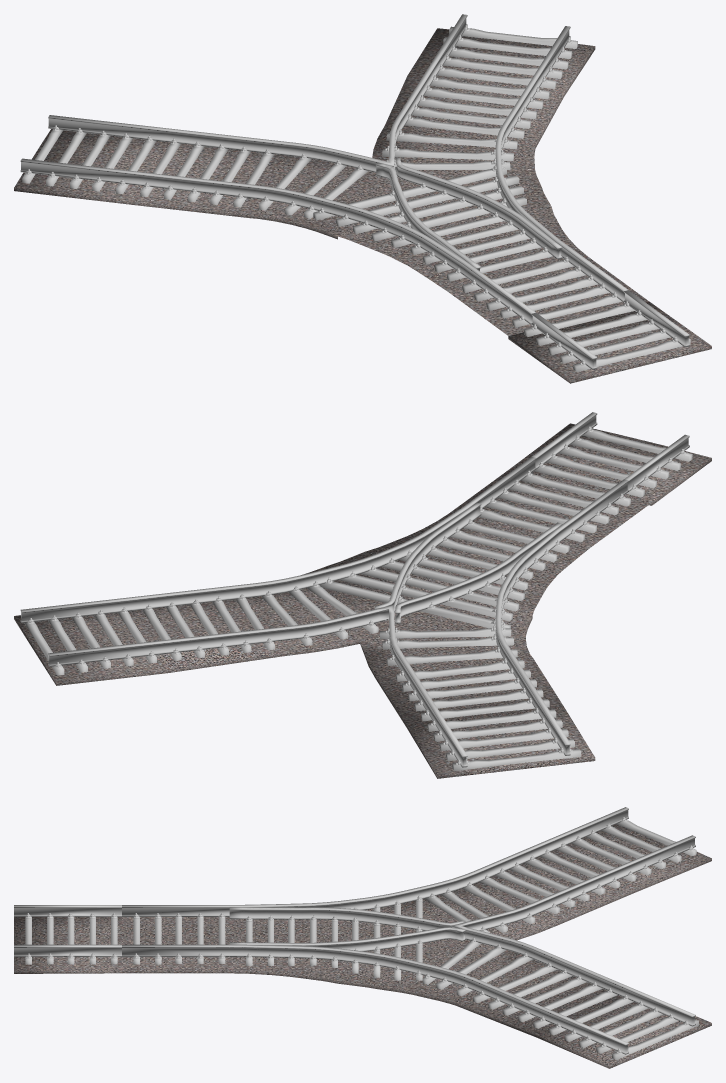
The model's file is track_fork1_concrete.fbx.
3 renders of one model, top to bottom at view 1: azimuth 30°, elevation 25°; view 2: azimuth 150°, elevation 25°; view 3: azimuth 270°, elevation 25°, orthographic. The views are drawn at different scales.
Visible parts, largest first — view 1: ground, concrete, rails; view 2: ground, concrete, rails; view 3: ground, rails, concrete.
Part boxes in pixels (x1,y1,x2,y2): ground: [14, 28, 711, 383]; concrete: [22, 26, 690, 372]; rails: [20, 14, 689, 369]; ground: [14, 423, 711, 778]; concrete: [24, 429, 692, 771]; rails: [20, 412, 689, 767]; ground: [14, 824, 711, 1068]; rails: [14, 807, 695, 1054]; concrete: [25, 820, 698, 1059].
Bounding box in the file's own units: 11.7 × 0.3829 × 13.74.
